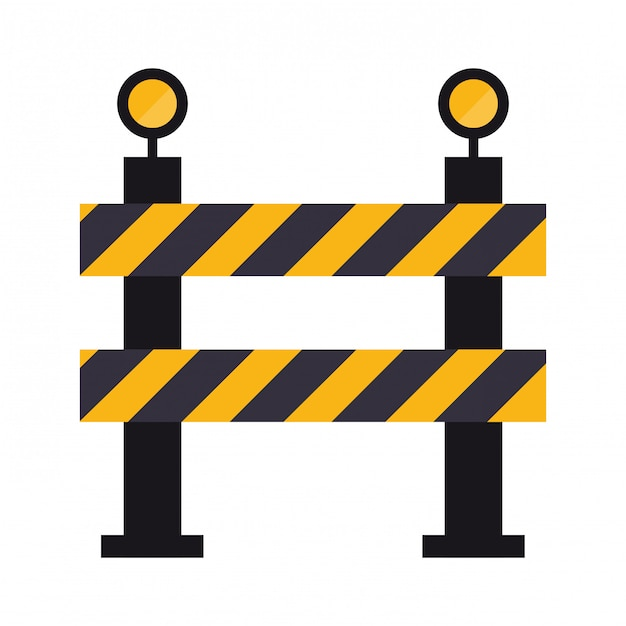Barrier: (50, 58, 570, 582)
